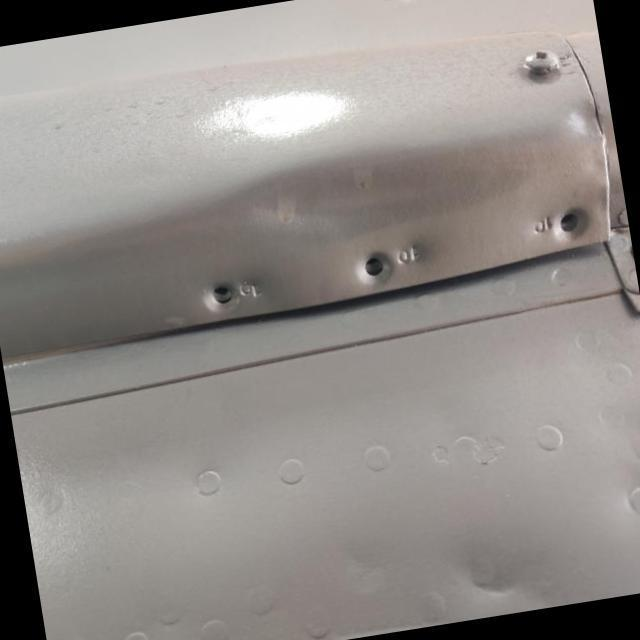Missing Fastener: (356, 249, 394, 287), (201, 280, 243, 314), (558, 207, 588, 237)
dent: (263, 137, 509, 233), (438, 538, 526, 604), (566, 92, 620, 138)
